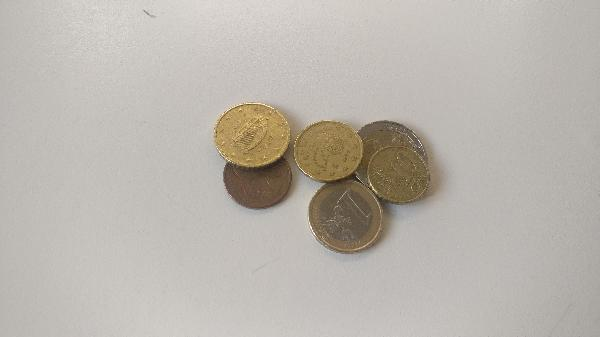Fifty Cent: (215, 103, 291, 168)
Five Cent: (221, 149, 292, 211)
One Euro: (305, 179, 387, 259)
Ten Cent: (369, 147, 434, 205)
Twenty Cent: (292, 119, 364, 181)
Two Euro: (356, 120, 431, 190)
